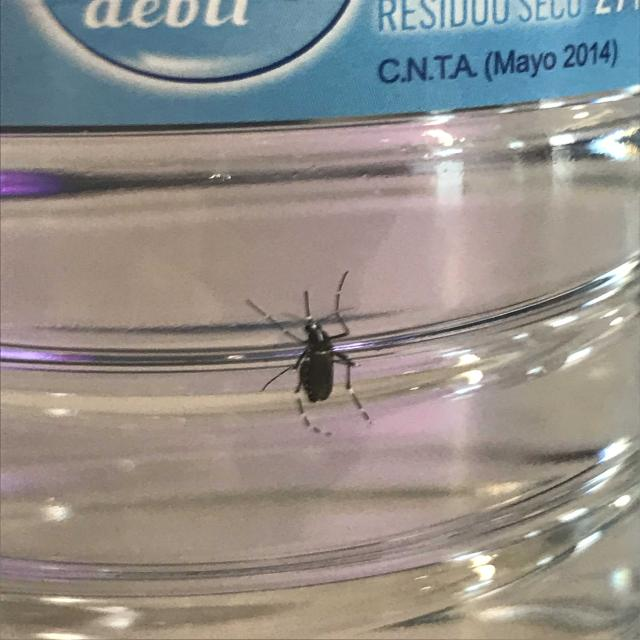albopictus: (202, 264, 394, 435)
